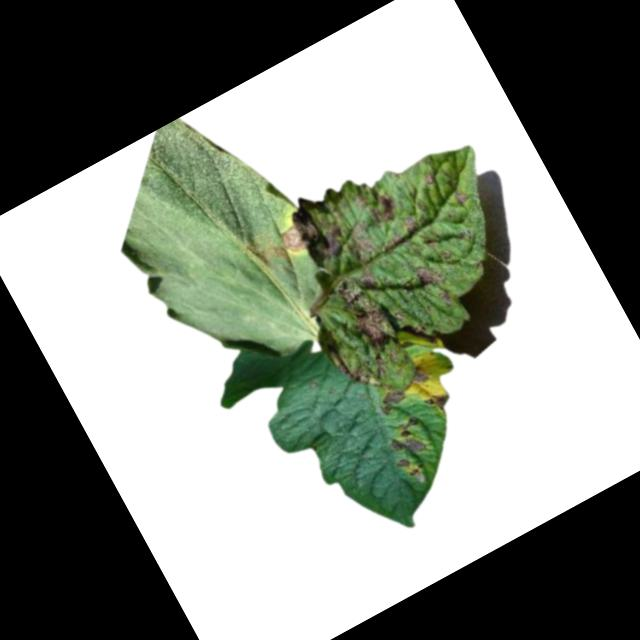Early_blight: (285, 161, 408, 278), (300, 271, 410, 397), (378, 413, 444, 487), (409, 258, 460, 315), (277, 222, 311, 260), (373, 385, 408, 417), (423, 388, 456, 417), (406, 362, 434, 392), (450, 188, 473, 211), (403, 216, 422, 237), (423, 171, 440, 188)
